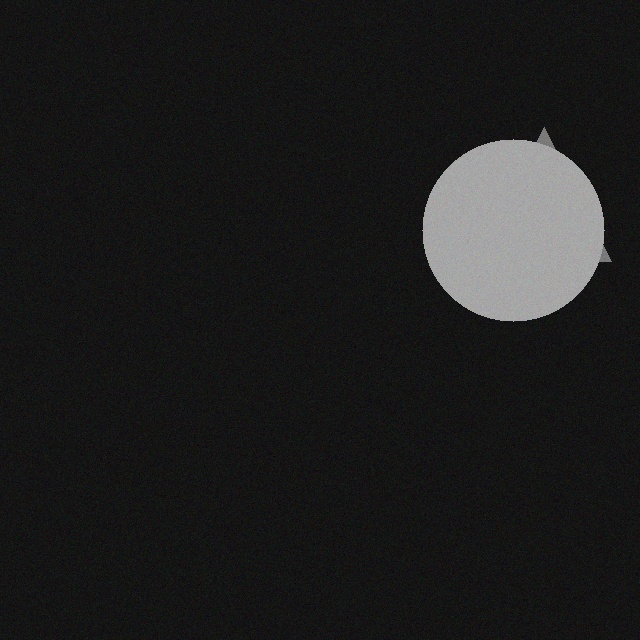circle: (412, 151, 594, 333)
triangle: (467, 139, 601, 273)
